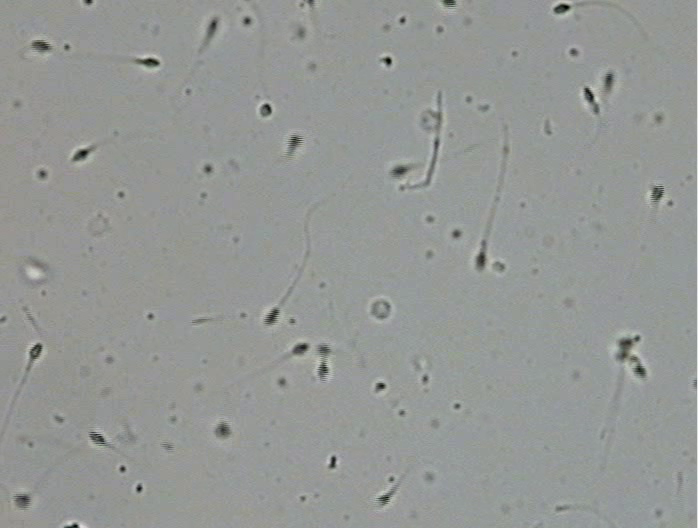Impurity: (370, 299, 391, 319)
S: (616, 337, 633, 362), (630, 356, 647, 380), (286, 133, 304, 155), (263, 307, 281, 326), (88, 430, 107, 447), (12, 493, 31, 510), (650, 184, 665, 204), (30, 40, 53, 53), (316, 361, 330, 382), (215, 421, 231, 439), (28, 342, 43, 360), (136, 57, 160, 68), (389, 165, 409, 178), (71, 149, 90, 162), (475, 252, 487, 271), (292, 342, 309, 355), (374, 494, 391, 507), (603, 71, 614, 90), (206, 19, 218, 36), (583, 86, 595, 103), (553, 3, 571, 14), (317, 344, 331, 358), (260, 103, 272, 117), (442, 1, 456, 9), (305, 1, 316, 8), (83, 1, 93, 7)
